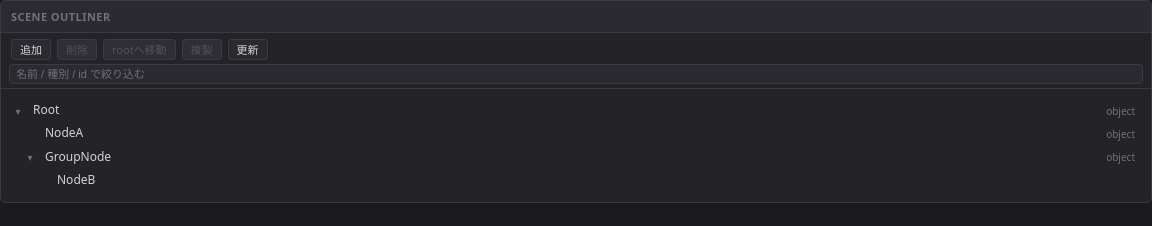
Test: SceneOutlinerPanel — filter input › shows a no-match state instead of an empty tree
This screenshot has width=1152, height=226.
Type "zzz" into the search field named "シーンを絞り込む".
click(576, 74); type("zzz")  # box [9,64,1143,84]
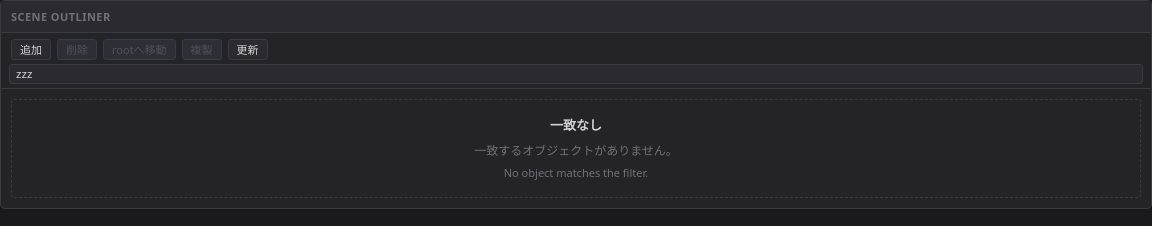
Expected: the text "一致するオブジェクトがありません。" is shown, [474,143,678,159]
